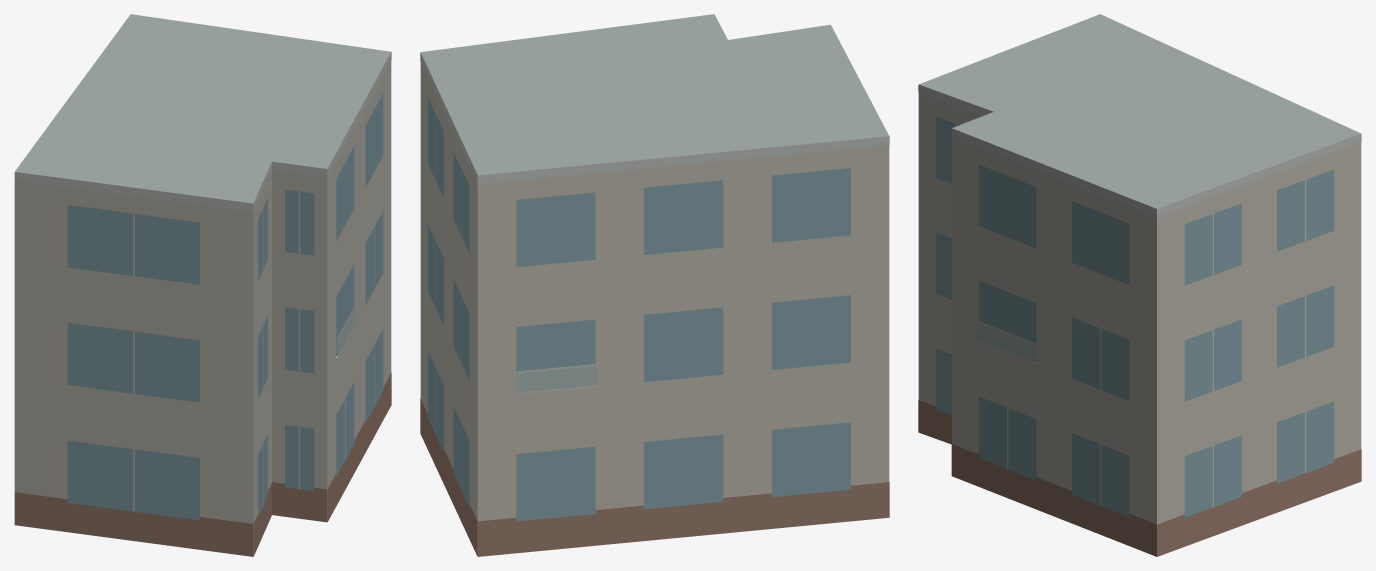
File: survey-upis-32652419.glb
3 renders of one model, left to right at view 1: azimuth 30°, elevation 25°; view 2: azimuth 150°, elevation 25°; view 3: azimuth 270°, elevation 25°, orthographic. The views are drawn at different scales.
Visible parts, largest first — view 1: survey-upis-32652419.tmp; view 2: survey-upis-32652419.tmp; view 3: survey-upis-32652419.tmp.
Boxes of the visible parts, <box> form: survey-upis-32652419.tmp: <box>14,14,391,556</box>; survey-upis-32652419.tmp: <box>420,14,889,556</box>; survey-upis-32652419.tmp: <box>918,14,1361,556</box>.
Bounding box in the file's own units: 12.26 × 10.2 × 11.78.
